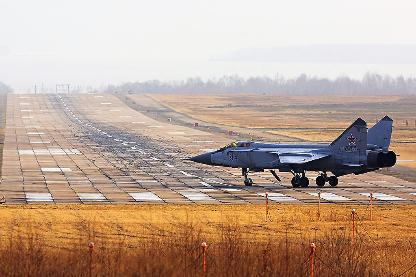Mig31: (180, 114, 414, 187)
